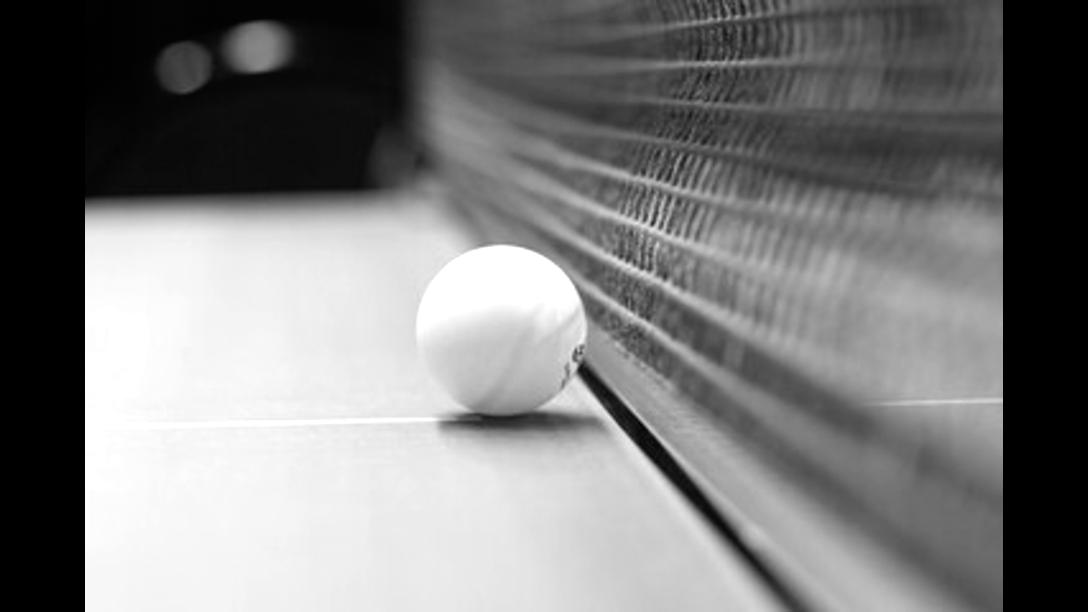Table-Tennis-Ball: (417, 245, 585, 411)
